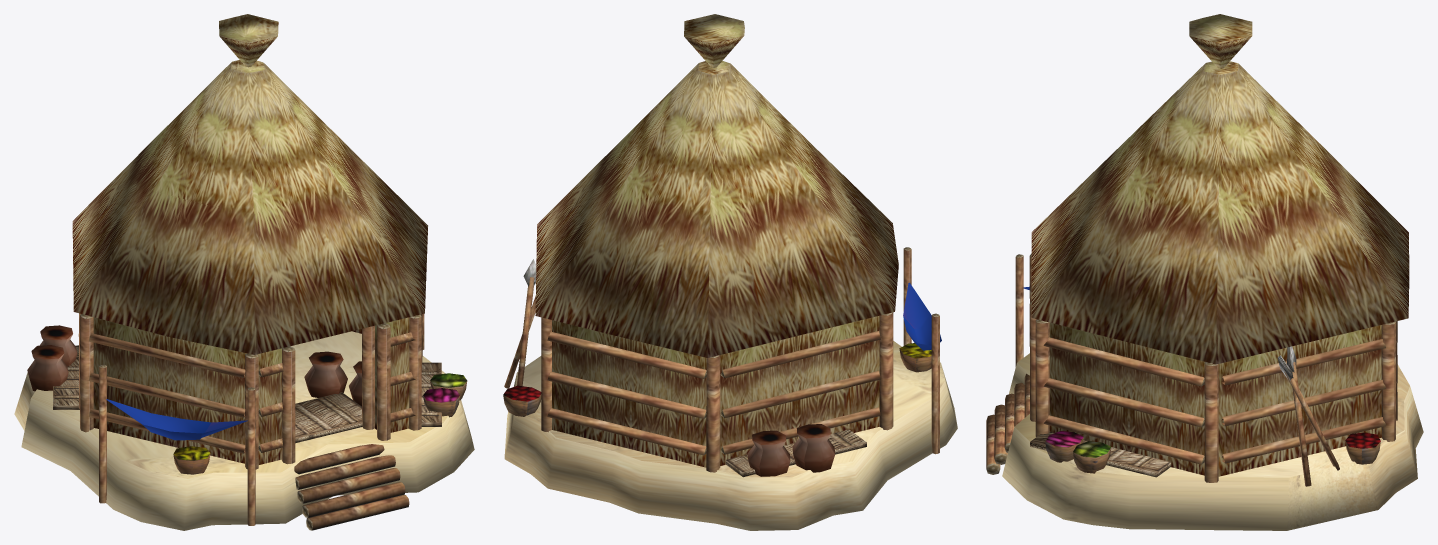
Rendered from house_2.dae.
3 renders of one model, left to right at view 1: azimuth 30°, elevation 25°; view 2: azimuth 150°, elevation 25°; view 3: azimuth 270°, elevation 25°, orthographic. The views are drawn at different scales.
Visible parts, largest first — view 1: house_2; view 2: house_2; view 3: house_2.
Part boxes in pixels (bbox=[...]): house_2: bbox=[14, 14, 474, 530]; house_2: bbox=[503, 14, 957, 530]; house_2: bbox=[986, 14, 1423, 530].
Size of the model in its own units: 12.7 by 12.77 by 13.6.
